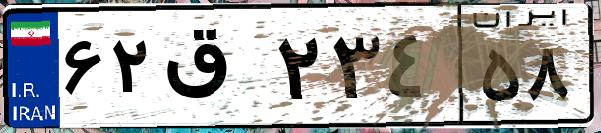2: (270, 28, 330, 110), (110, 28, 158, 98)
3: (330, 28, 385, 110)
4: (385, 28, 445, 110)
5: (475, 38, 525, 113)
6: (57, 26, 110, 100)
8: (525, 38, 570, 115)
ق: (158, 20, 270, 120)
